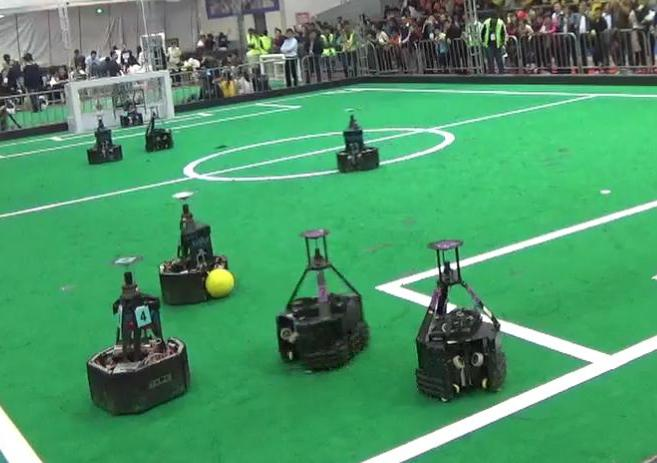robot: (406, 236, 515, 404), (84, 253, 191, 417), (269, 226, 374, 374), (154, 188, 239, 306)
